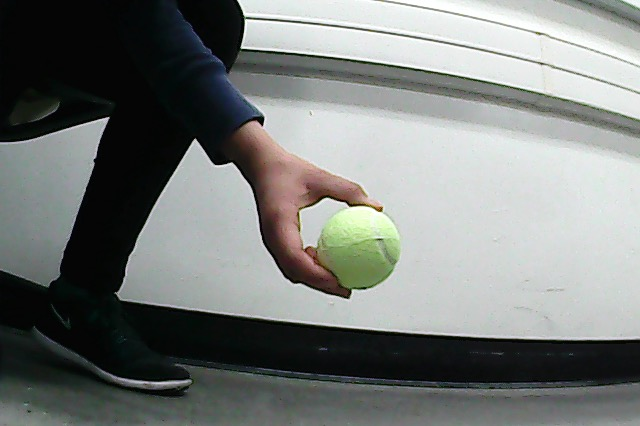ball: (315, 205, 403, 291)
